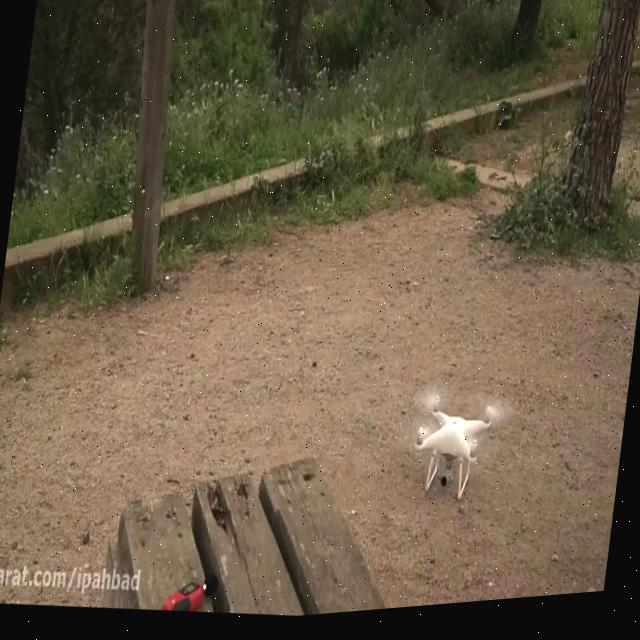drone: (391, 386, 516, 518)
